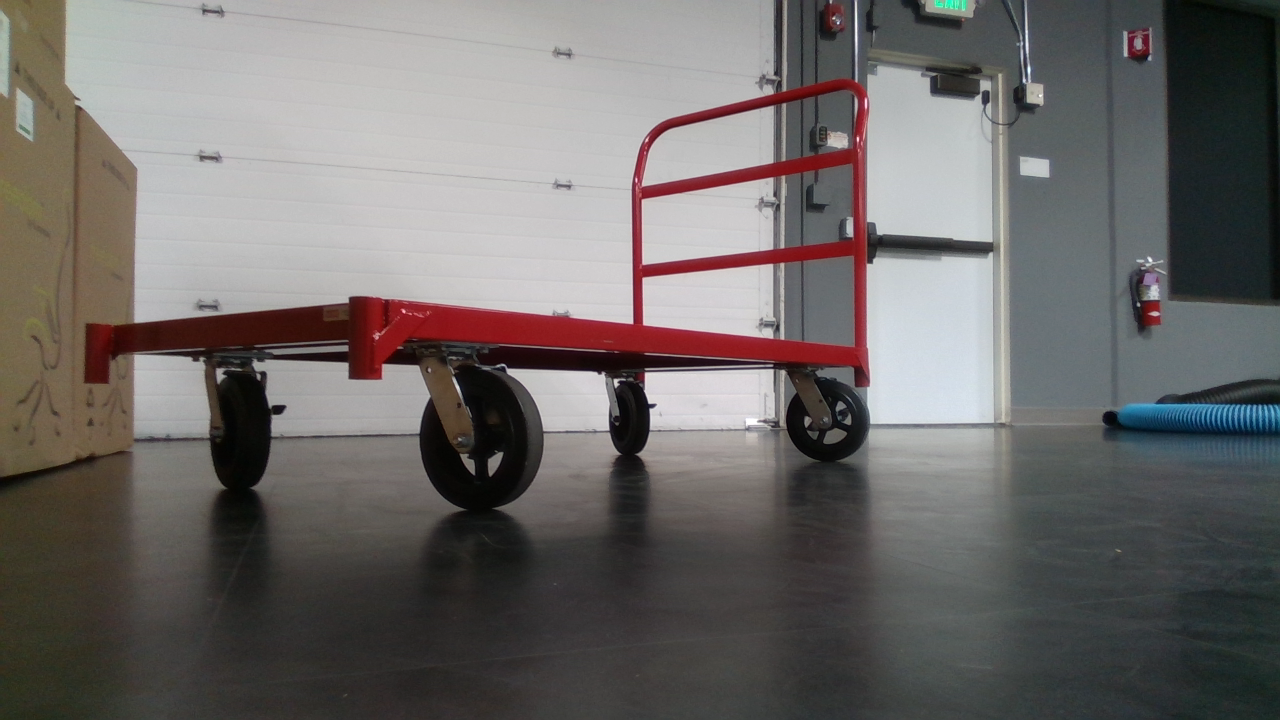Dolly: (80, 54, 888, 520)
Wheel: (415, 359, 548, 517), (205, 366, 288, 495), (783, 375, 874, 465), (605, 376, 659, 458)
